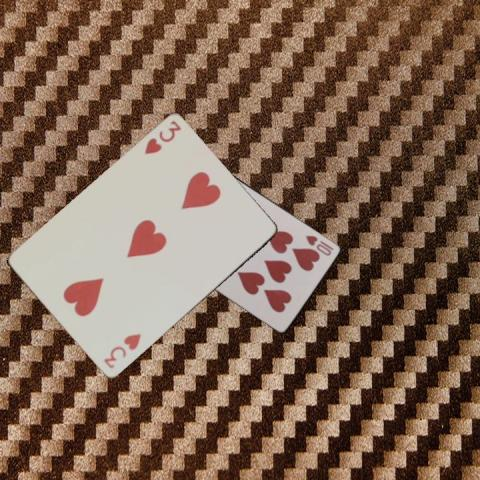10h: (303, 232, 335, 257)
3h: (100, 330, 142, 370), (141, 118, 183, 157)
